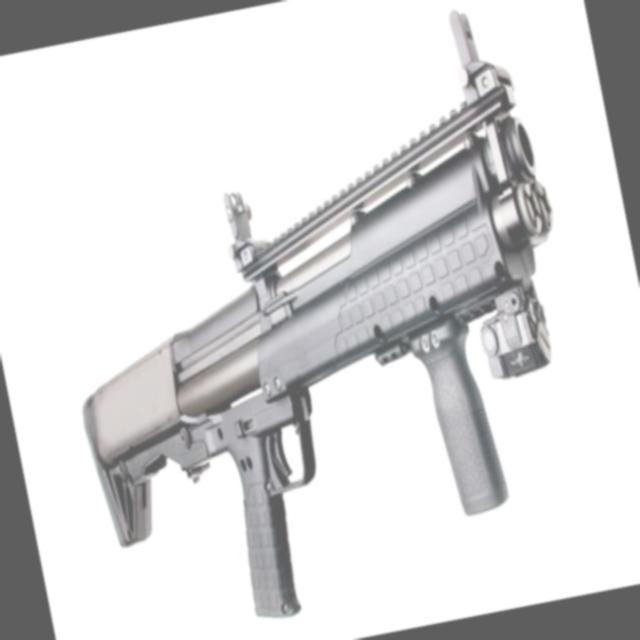shotgun: (6, 15, 613, 640)
